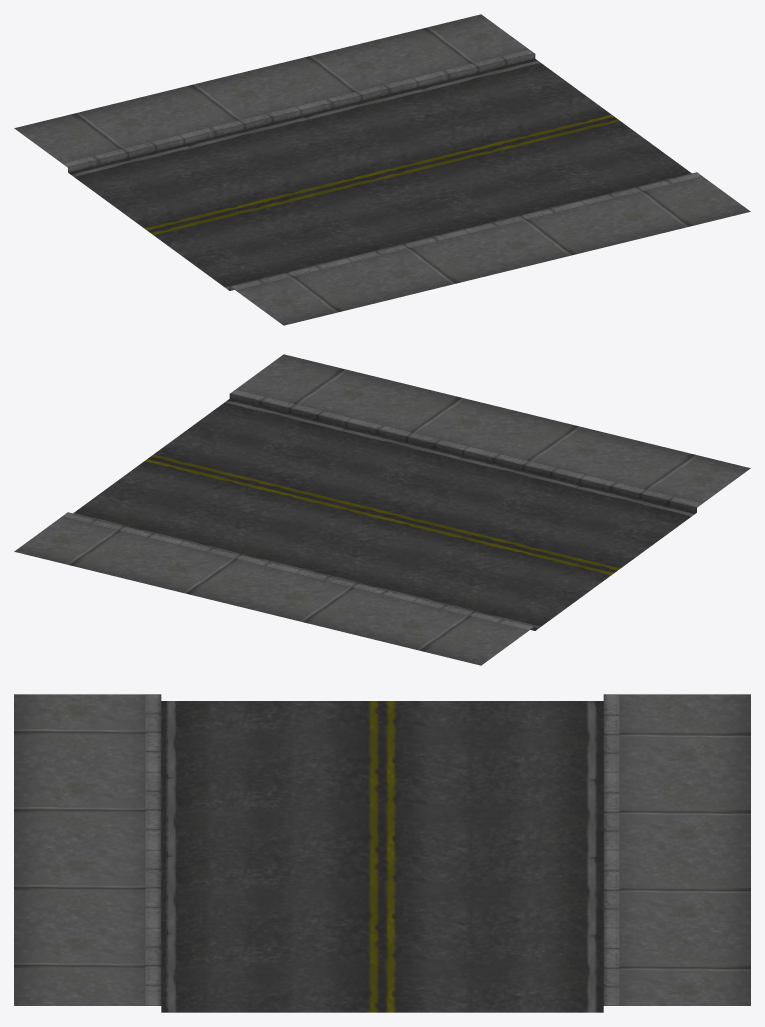
File: road1.fbx
The picture shows the model from 3 angles, top to bottom: view 1: azimuth 30°, elevation 25°; view 2: azimuth 150°, elevation 25°; view 3: azimuth 270°, elevation 25°; orthographic projection. The views are drawn at different scales.
Visible parts, largest first — view 1: road1; view 2: road1; view 3: road1.
Part boxes in pixels (left/top/right/bottom): road1: left=14, top=14, right=750, bottom=325; road1: left=14, top=354, right=750, bottom=665; road1: left=14, top=694, right=750, bottom=1012.
Size of the model in its own units: 2000 by 2000 by 20.
1 material, 1 textured.
